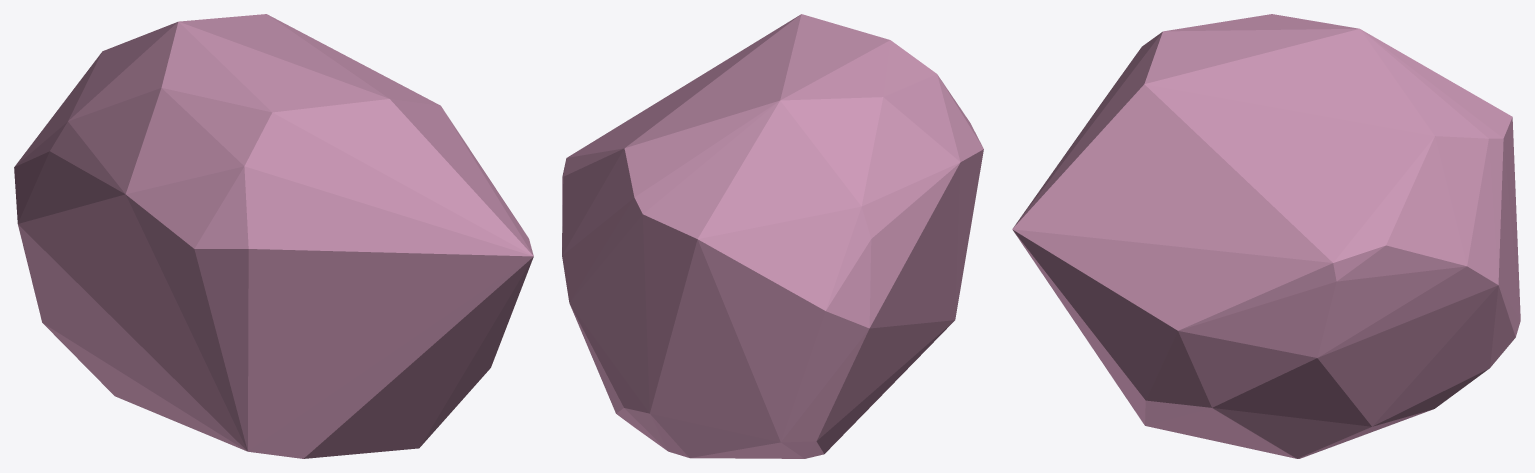
File: food_produce_apple_s01.glb
3 renders of one model, left to right at view 1: azimuth 30°, elevation 25°; view 2: azimuth 150°, elevation 25°; view 3: azimuth 270°, elevation 25°, orthographic. The views are drawn at different scales.
Parts seen in each view (by area): view 1: geometry_0; view 2: geometry_0; view 3: geometry_0.
Part boxes in pixels (bbox=[...]): geometry_0: bbox=[14, 14, 533, 458]; geometry_0: bbox=[562, 14, 983, 458]; geometry_0: bbox=[1012, 14, 1520, 458].
Size of the model in its own units: 0.3783 by 0.3775 by 0.4753.
